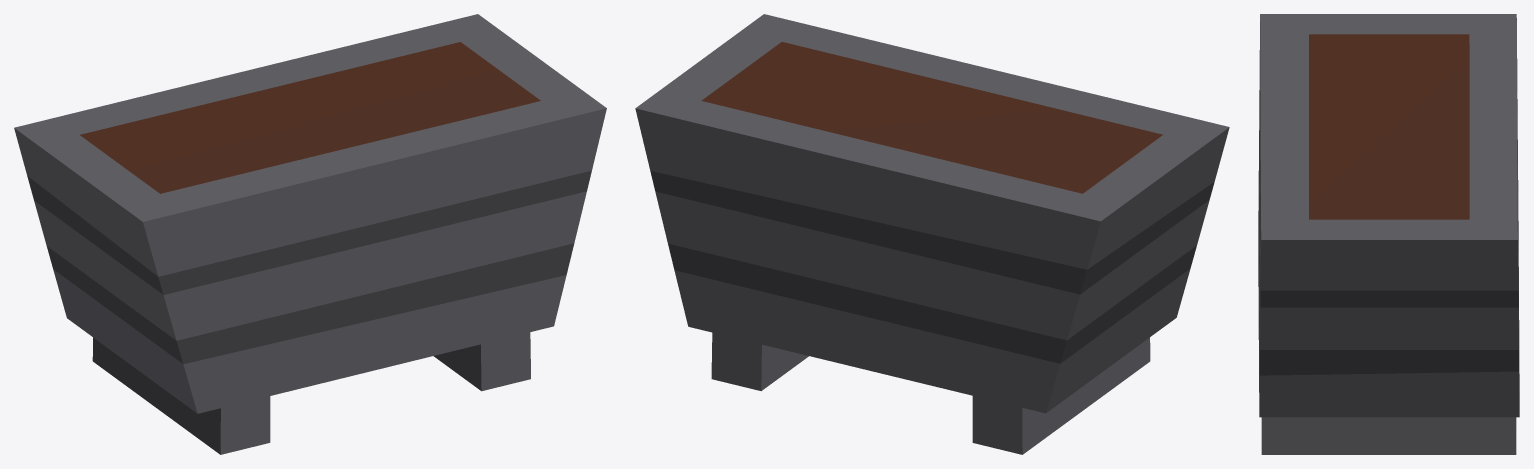
The model's file is flower_pot_08.fbx.
3 renders of one model, left to right at view 1: azimuth 30°, elevation 25°; view 2: azimuth 150°, elevation 25°; view 3: azimuth 270°, elevation 25°, orthographic.
Parts seen in each view (by area): view 1: flower_pot_08; view 2: flower_pot_08; view 3: flower_pot_08.
Boxes of the visible parts, x1,y1,x2,y2 form: flower_pot_08: (14,14,606,454); flower_pot_08: (635,14,1229,454); flower_pot_08: (1258,14,1519,454).
Size of the model in its own units: 157 by 81.4 by 76.64.
